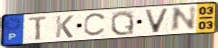C: (82, 12, 109, 38)
K: (54, 14, 75, 39)
N: (169, 5, 198, 34)
Q: (110, 10, 136, 37)
T: (27, 15, 49, 42)
V: (143, 8, 172, 34)
